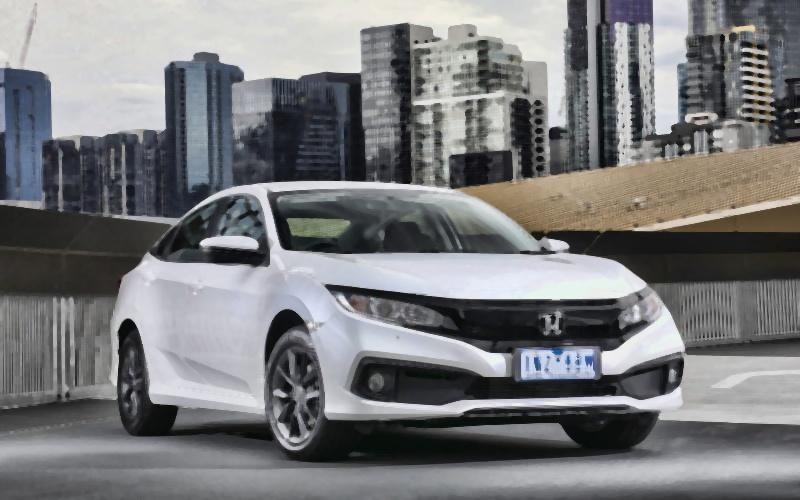Car hood: (292, 249, 652, 301)
Driver-s door - -F-R-: (190, 188, 262, 408)
Fender - -F-R-: (261, 241, 342, 408)
Fender - -R-R-: (107, 273, 157, 398)
Front bumper: (306, 310, 694, 429)
Headlight - -L-: (611, 288, 671, 344)
Headlight - -R-: (319, 280, 461, 337)
Passenger-s door - -R-R-: (138, 191, 204, 404)
Rear bumper: (103, 335, 131, 393)
Side bumper - -R-: (142, 380, 280, 427)
Side mirror - -L-: (533, 230, 573, 258)
Side mirror - -R-: (194, 230, 268, 270)
